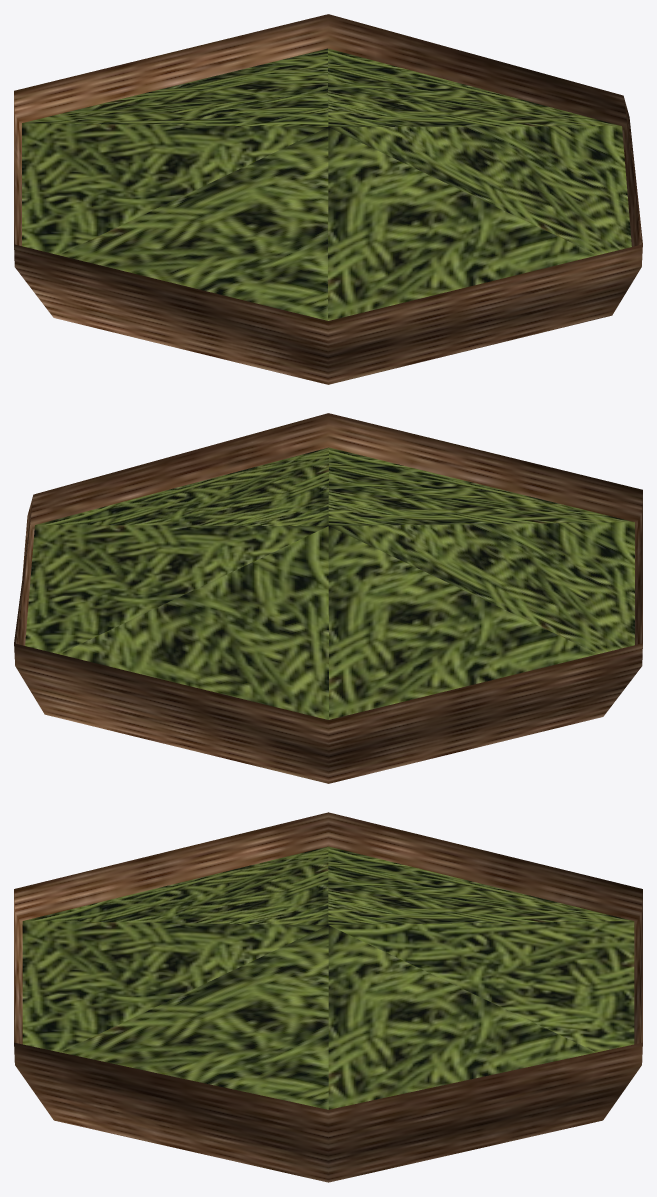
Rendered from greenbeanbasket.fbx.
The picture shows the model from 3 angles, top to bottom: view 1: azimuth 30°, elevation 25°; view 2: azimuth 150°, elevation 25°; view 3: azimuth 270°, elevation 25°; orthographic projection.
Parts seen in each view (by area): view 1: pSphere4, lod_high; view 2: pSphere4, lod_high; view 3: pSphere4, lod_high.
Part boxes in pixels (x1,y1,x2,y2): pSphere4: [22, 48, 631, 320]; lod_high: [14, 14, 642, 384]; pSphere4: [25, 447, 634, 719]; lod_high: [14, 413, 642, 783]; pSphere4: [22, 846, 634, 1109]; lod_high: [14, 812, 642, 1182].
Bounding box in the file's own units: 91.92 × 21.24 × 81.34.
Materials: 1 (1 with a texture image).
